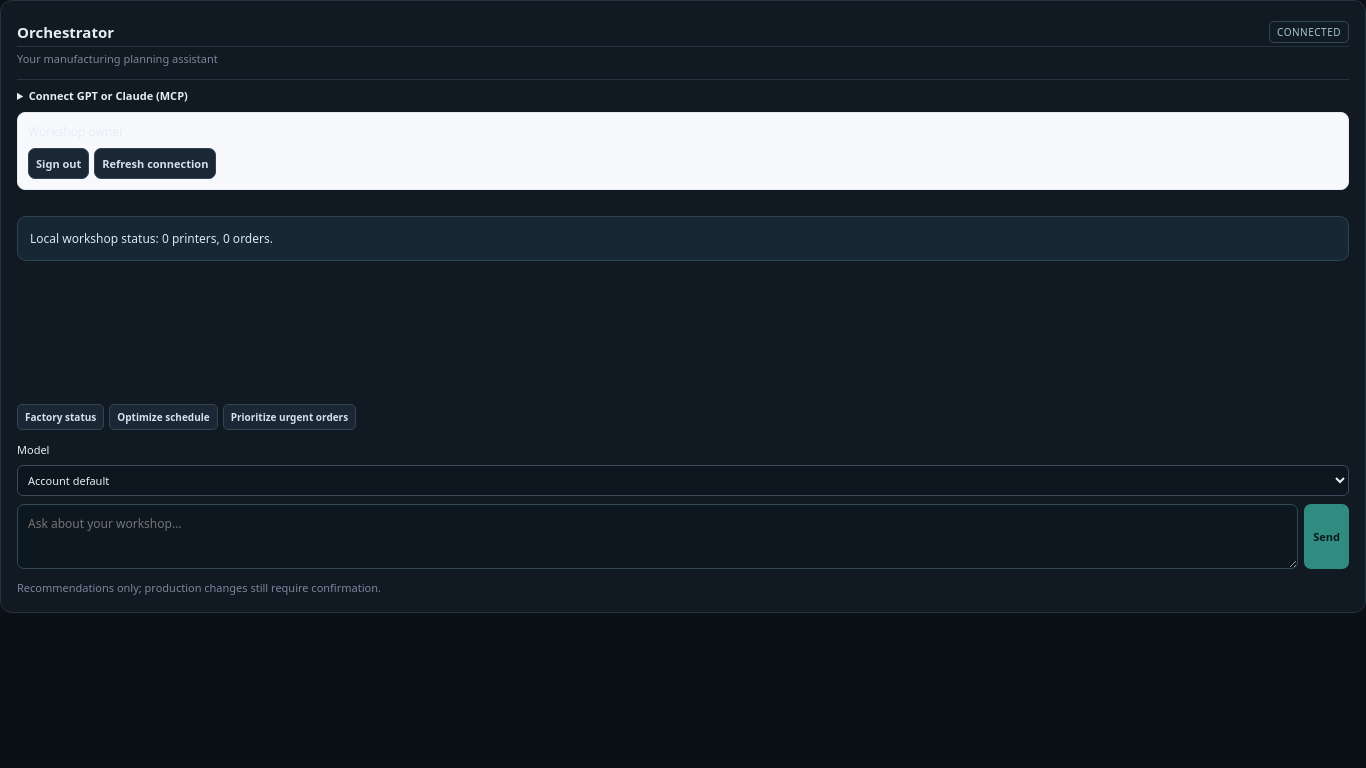
reads connection without sending a prompt and sends only explicit user messages
Type "Factory status" into the text box named "Message orchestrator" at (658, 536), box [17, 504, 1298, 568]
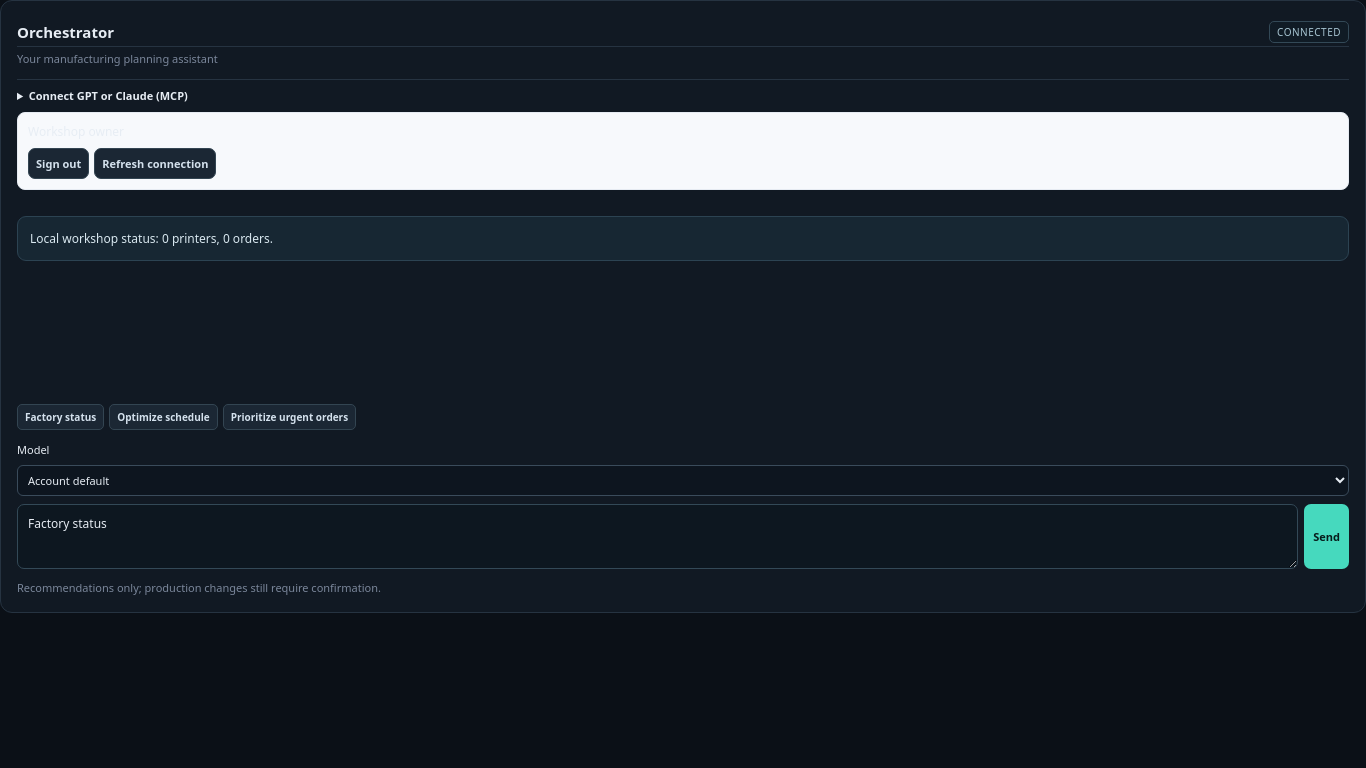
Click the button with aria-label "Send message" at (1327, 536), box [1304, 504, 1349, 568]
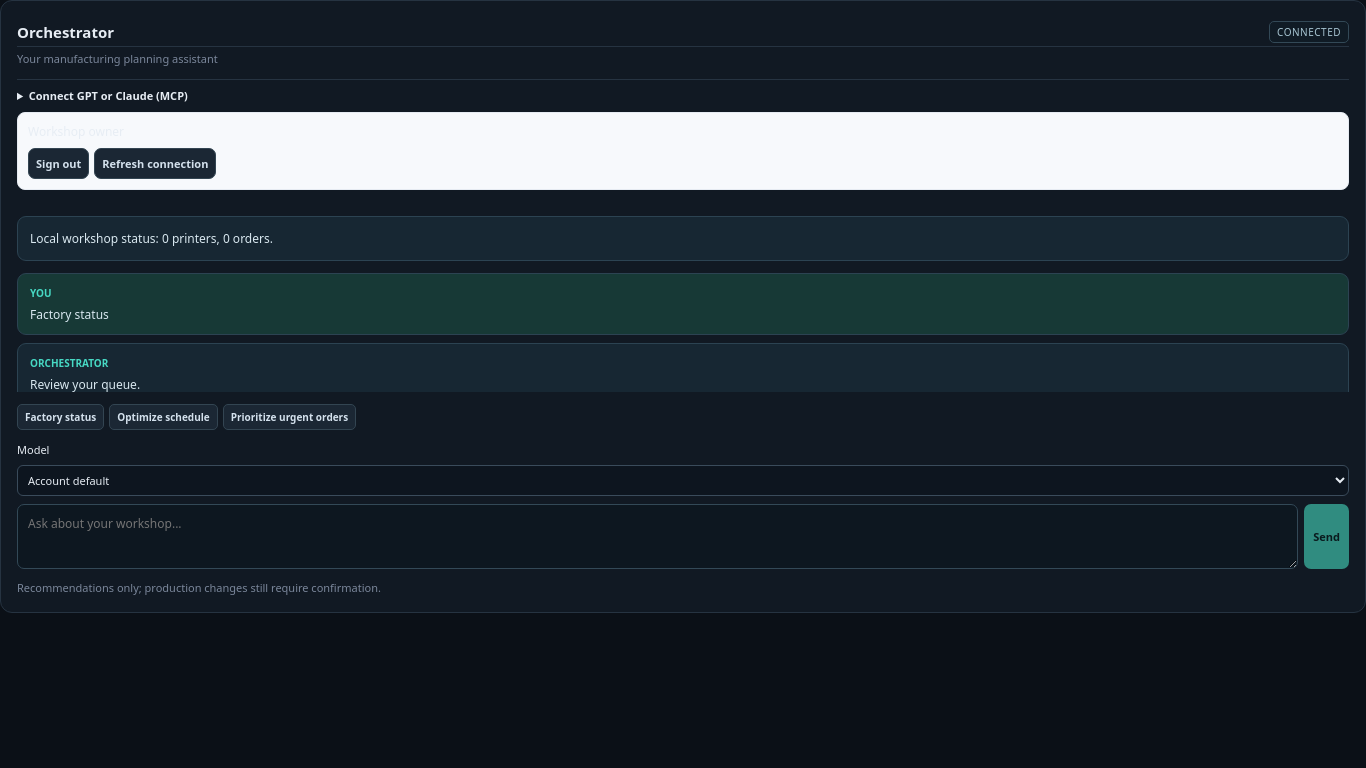
Check: the text "Review your queue." is shown, box [30, 376, 140, 392]
